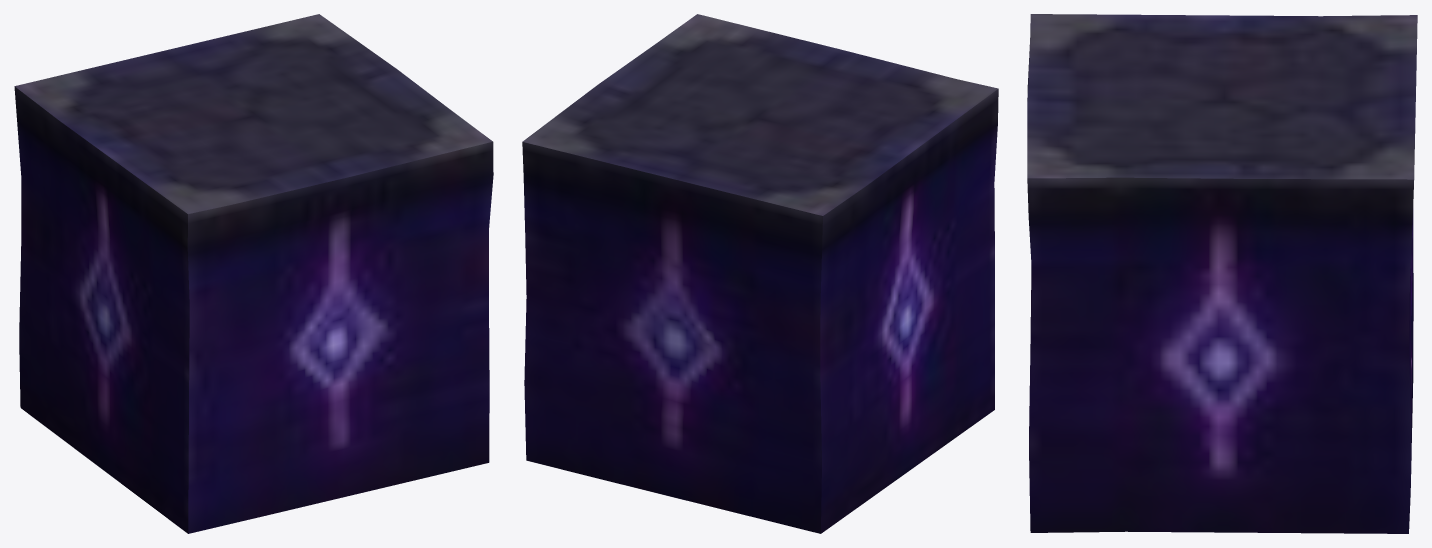
The model's file is b_abimes_mur_1_lod1.glb.
3 renders of one model, left to right at view 1: azimuth 30°, elevation 25°; view 2: azimuth 150°, elevation 25°; view 3: azimuth 270°, elevation 25°, orthographic. The views are drawn at different scales.
Parts seen in each view (by area): view 1: geometry_0; view 2: geometry_0; view 3: geometry_0.
Boxes of the visible parts, <box> form: geometry_0: <box>14,14,493,533</box>; geometry_0: <box>522,14,998,533</box>; geometry_0: <box>1027,14,1417,533</box>.
Size of the model in its own units: 1 by 1.01 by 1.
1 material, 1 textured.
